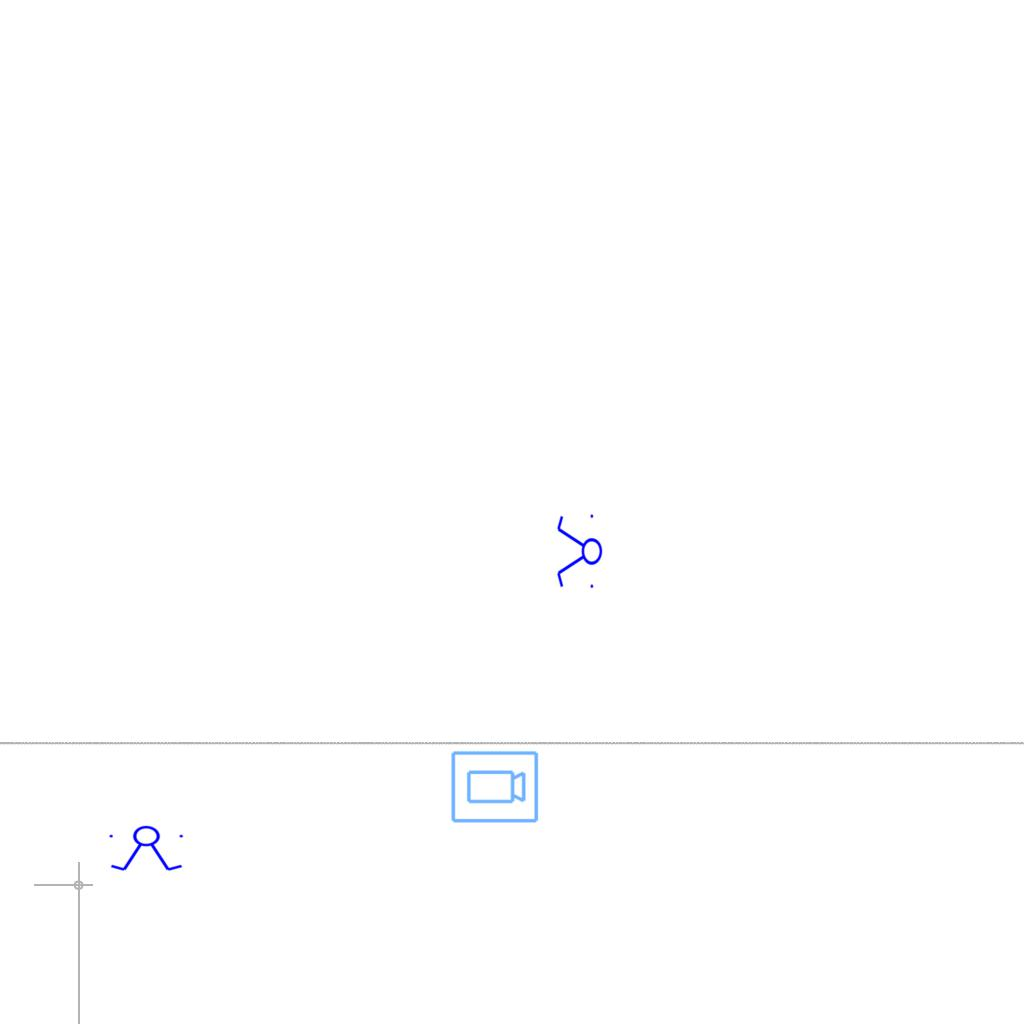KFO_Kamera_mit_Festobjektiv: (449, 749, 540, 826)
Serienschalter: (555, 510, 603, 594), (105, 825, 189, 873)
